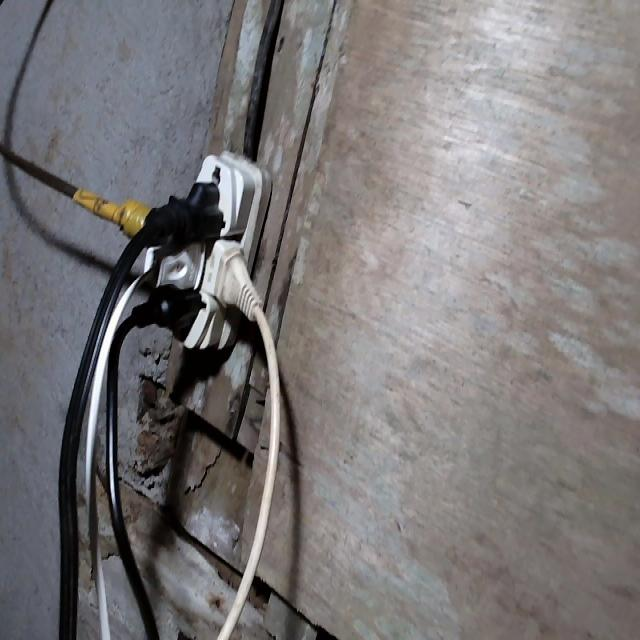-: (102, 152, 269, 351)
